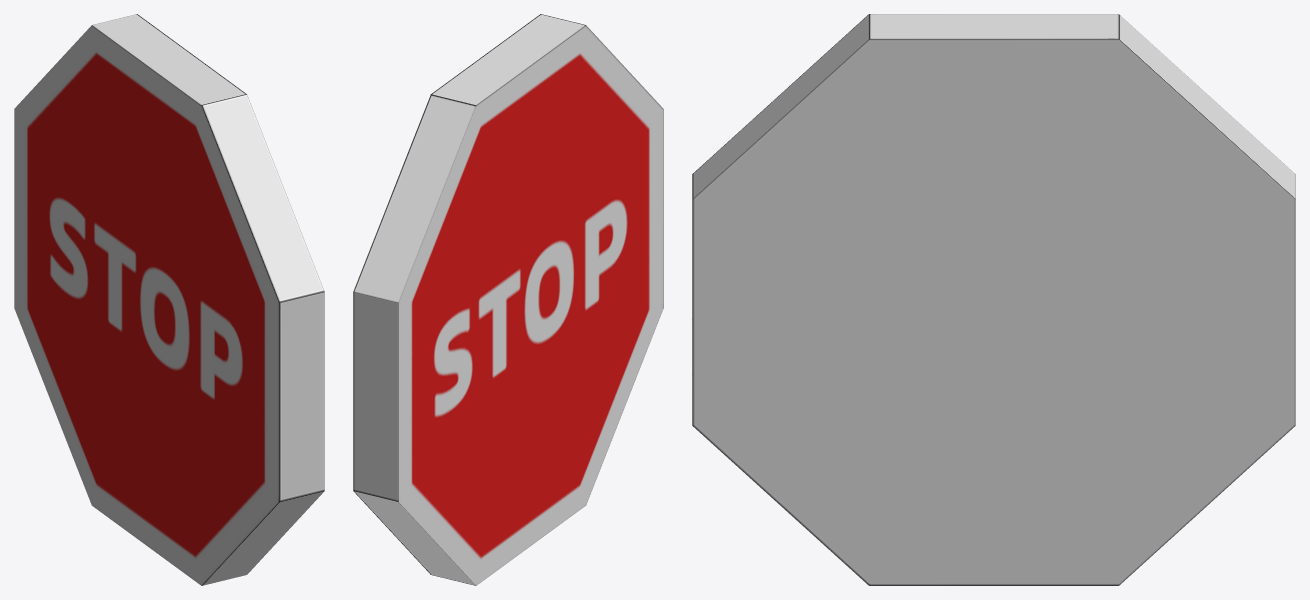
The model's file is stop.dae.
3 views of the same model, side by side, from view 1: azimuth 30°, elevation 25°; view 2: azimuth 150°, elevation 25°; view 3: azimuth 270°, elevation 25° (orthographic). The views are drawn at different scales.
Visible parts, largest first — view 1: Circle; view 2: Circle; view 3: Circle.
Part boxes in pixels (x1,y1,x2,y2): Circle: [14, 14, 324, 585]; Circle: [353, 14, 663, 585]; Circle: [692, 14, 1295, 585].
Bounding box in the file's own units: 0.183 × 1.85 × 1.85.
1 material, 1 textured.
